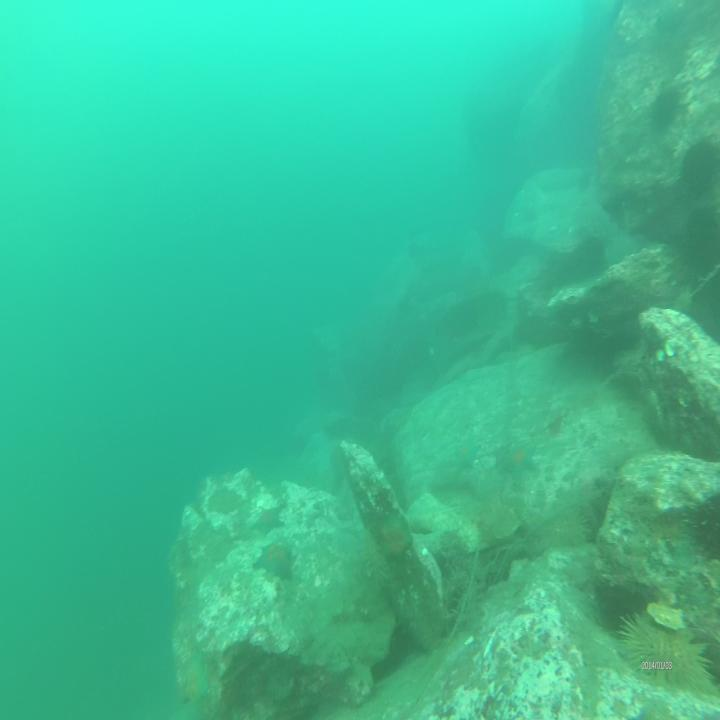echinus: (614, 604, 712, 698), (681, 134, 720, 196), (649, 82, 681, 125)
starfish: (253, 538, 293, 584), (500, 437, 534, 486), (380, 517, 410, 564), (251, 503, 282, 536), (453, 437, 477, 476)
